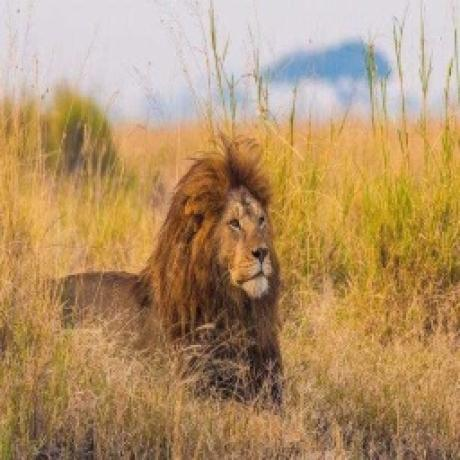Lion: (43, 147, 286, 399)
